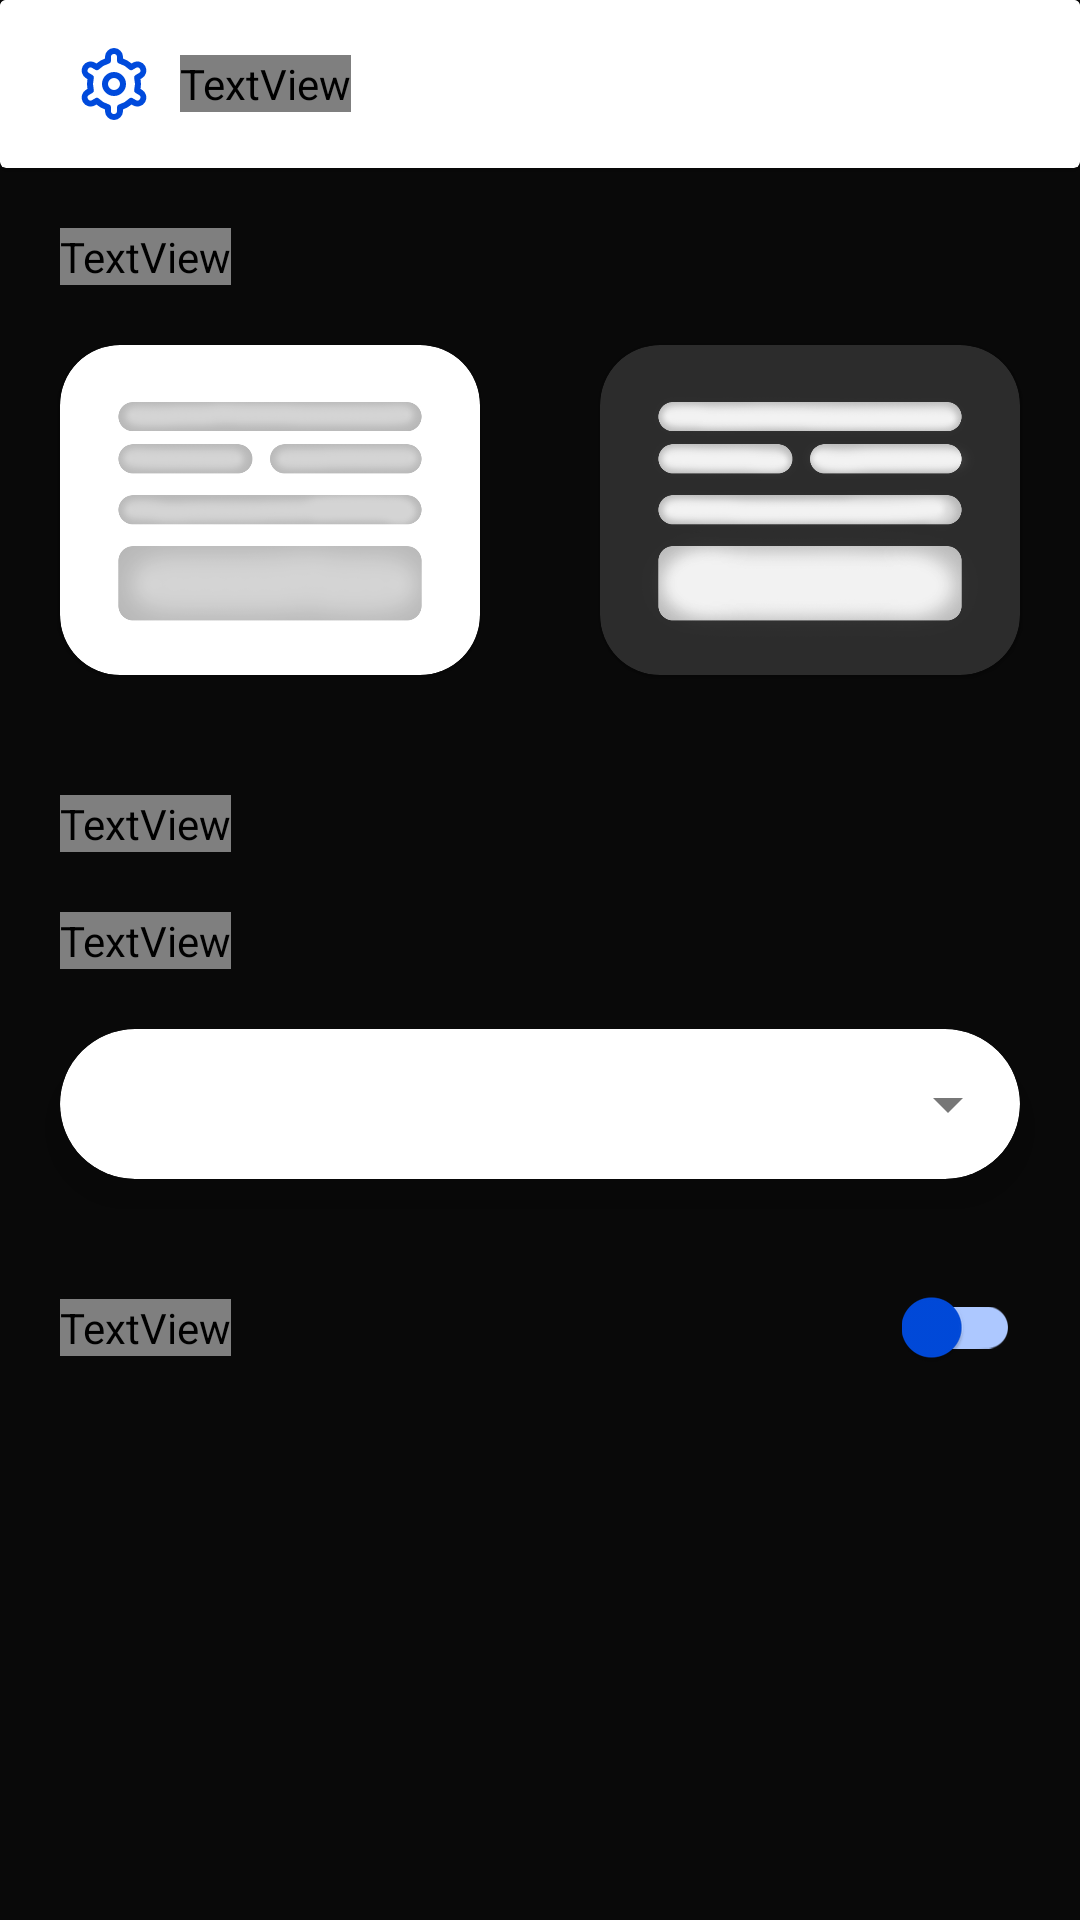

Icons on this 1080x1920 Android screen, each with its box as [left=x1, top=y1, right=x2, bottom=y2]:
settings: [left=81, top=48, right=147, bottom=120]
